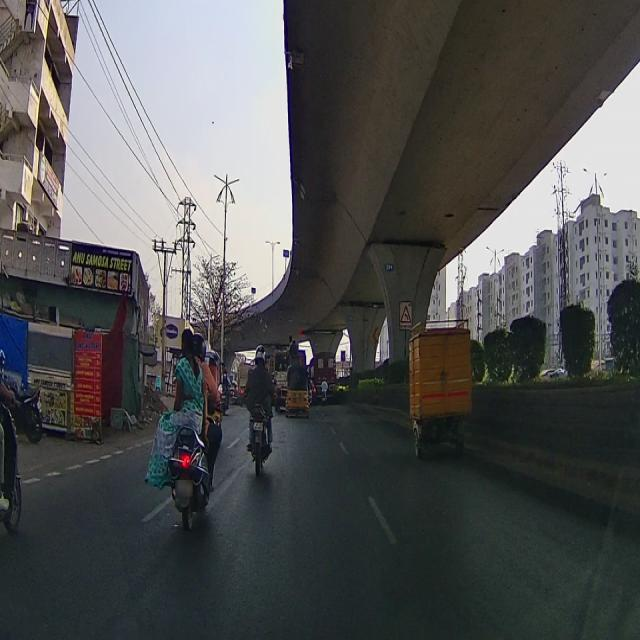left-hand-curve: (398, 300, 413, 328), (371, 325, 379, 342)
